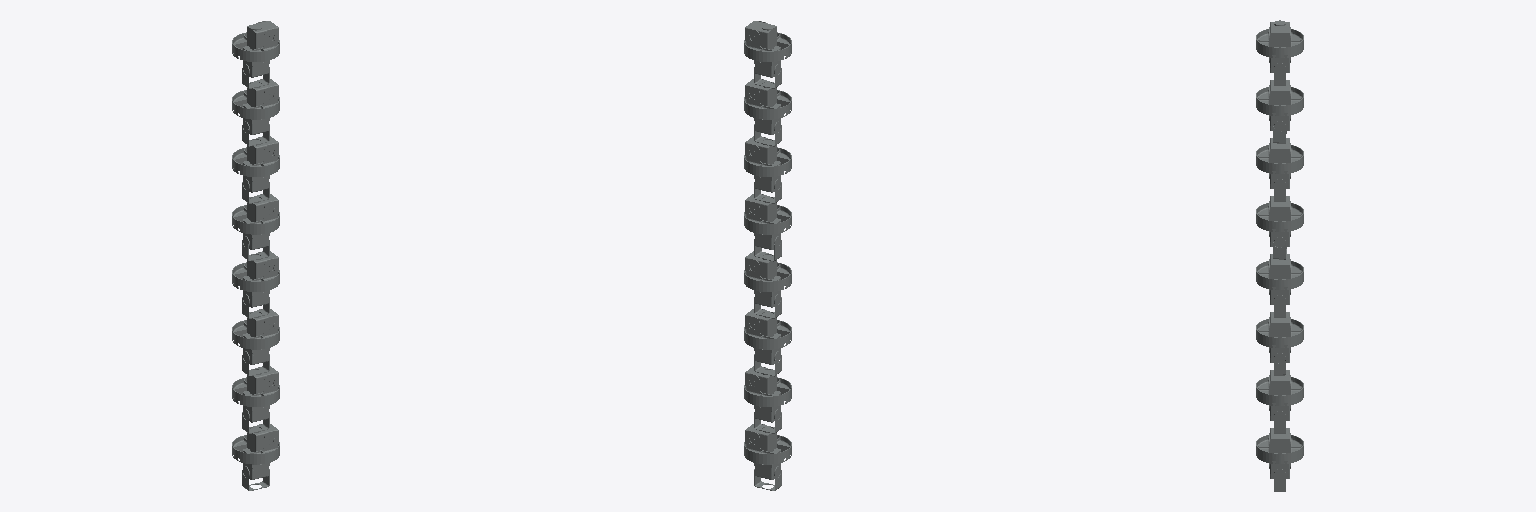
The robot description file, URDF, robot "snake_description":
<?xml version="1.0" encoding="utf-8"?>
<robot
  name="snake_description" xmlns:xacro = "http://www.ros.org/wiki/xacro">
  <link
    name="base">
    <inertial>
      <origin
        xyz="-1.3878E-16 8.3267E-17 0.009179"
        rpy="0 0 0" />
      <mass
        value="0.01292" />
      <inertia
        ixx="1.5771E-06"
        ixy="-6.8557E-21"
        ixz="8.2189E-21"
        iyy="5.4038E-06"
        iyz="-6.3527E-22"
        izz="5.0192E-06" />
    </inertial>
    <visual>
      <origin
        xyz="0 0 0"
        rpy="0 0 0" />
      <geometry>
        <mesh
          filename="package://snake_description/meshes/base.STL" />
      </geometry>
      <material
        name="">
        <color
          rgba="0.52941 0.54902 0.54902 1" />
      </material>
    </visual>
    <collision>
      <origin
        xyz="0 0 0"
        rpy="0 0 0" />
      <geometry>
        <mesh
          filename="package://snake_description/meshes/base.STL" />
      </geometry>
    </collision>
  </link>
  <link
    name="link1">
    <inertial>
      <origin
        xyz="0.034964 -3.7741E-10 -0.0062826"
        rpy="0 0 0" />
      <mass
        value="0.91551" />
      <inertia
        ixx="0.00022574"
        ixy="-5.9413E-11"
        ixz="1.1175E-06"
        iyy="0.00027191"
        iyz="-6.4981E-11"
        izz="0.00021815" />
    </inertial>
    <visual>
      <origin
        xyz="0 0 0"
        rpy="0 0 0" />
      <geometry>
        <mesh
          filename="package://snake_description/meshes/link1.STL" />
      </geometry>
      <material
        name="">
        <color
          rgba="0.52941 0.54902 0.54902 1" />
      </material>
    </visual>
    <collision>
      <origin
        xyz="0 0 0"
        rpy="0 0 0" />
      <geometry>
        <mesh
          filename="package://snake_description/meshes/link1.STL" />
      </geometry>
    </collision>
  </link>
  <joint
    name="joint1"
    type="revolute">
    <origin
      xyz="0 0 0.033"
      rpy="0 -1.5708 0" />
    <parent
      link="base" />
    <child
      link="link1" />
    <axis
      xyz="0 0 1" />
    <limit
      lower="-3.14"
      upper="3.14"
      effort="1.47"
      velocity="3.14" />
  </joint>
  <link
    name="link2">
    <inertial>
      <origin
        xyz="-5.55111512312578E-17 -8.32667268468867E-17 0.00917897857807373"
        rpy="0 0 0" />
      <mass
        value="0.0129204587087898" />
      <inertia
        ixx="1.57709823969322E-06"
        ixy="1.75626987657259E-20"
        ixz="-5.9557004103818E-22"
        iyy="5.40379392938283E-06"
        iyz="0"
        izz="5.01923981807972E-06" />
    </inertial>
    <visual>
      <origin
        xyz="0 0 0"
        rpy="0 0 0" />
      <geometry>
        <mesh
          filename="package://snake_description/meshes/link2.STL" />
      </geometry>
      <material
        name="">
        <color
          rgba="0.529411764705882 0.549019607843137 0.549019607843137 1" />
      </material>
    </visual>
    <collision>
      <origin
        xyz="0 0 0"
        rpy="0 0 0" />
      <geometry>
        <mesh
          filename="package://snake_description/meshes/link2.STL" />
      </geometry>
    </collision>
  </link>
  <joint
    name="joint2"
    type="revolute">
    <origin
      xyz="0.077 0 0"
      rpy="0 1.5708 0" />
    <parent
      link="link1" />
    <child
      link="link2" />
    <axis
      xyz="0 0 1" />
    <limit
      lower="-3.14"
      upper="3.14"
      effort="1.47"
      velocity="3.14" />
  </joint>
  <link
    name="link3">
    <inertial>
      <origin
        xyz="0.034964 -3.7741E-10 -0.0062826"
        rpy="0 0 0" />
      <mass
        value="0.91551" />
      <inertia
        ixx="0.00022574"
        ixy="-5.9413E-11"
        ixz="1.1175E-06"
        iyy="0.00027191"
        iyz="-6.4981E-11"
        izz="0.00021815" />
    </inertial>
    <visual>
      <origin
        xyz="0 0 0"
        rpy="0 0 0" />
      <geometry>
        <mesh
          filename="package://snake_description/meshes/link3.STL" />
      </geometry>
      <material
        name="">
        <color
          rgba="0.52941 0.54902 0.54902 1" />
      </material>
    </visual>
    <collision>
      <origin
        xyz="0 0 0"
        rpy="0 0 0" />
      <geometry>
        <mesh
          filename="package://snake_description/meshes/link3.STL" />
      </geometry>
    </collision>
  </link>
  <joint
    name="joint3"
    type="revolute">
    <origin
      xyz="0 0 0.033"
      rpy="0 -1.5708 0" />
    <parent
      link="link2" />
    <child
      link="link3" />
    <axis
      xyz="0 0 1" />
    <limit
      lower="-3.14"
      upper="3.14"
      effort="1.47"
      velocity="3.14" />
  </joint>
  <link
    name="link4">
    <inertial>
      <origin
        xyz="-2.77555756156289E-17 0 0.0091789785780737"
        rpy="0 0 0" />
      <mass
        value="0.0129204587087899" />
      <inertia
        ixx="1.57731930347784E-06"
        ixy="-2.90842734567011E-08"
        ixz="1.29701920048315E-21"
        iyy="5.40357286559824E-06"
        iyz="1.6940658945086E-21"
        izz="5.01923981807975E-06" />
    </inertial>
    <visual>
      <origin
        xyz="0 0 0"
        rpy="0 0 0" />
      <geometry>
        <mesh
          filename="package://snake_description/meshes/link4.STL" />
      </geometry>
      <material
        name="">
        <color
          rgba="0.529411764705882 0.549019607843137 0.549019607843137 1" />
      </material>
    </visual>
    <collision>
      <origin
        xyz="0 0 0"
        rpy="0 0 0" />
      <geometry>
        <mesh
          filename="package://snake_description/meshes/link4.STL" />
      </geometry>
    </collision>
  </link>
  <joint
    name="joint4"
    type="revolute">
    <origin
      xyz="0.077 0 0"
      rpy="0 1.5708 0" />
    <parent
      link="link3" />
    <child
      link="link4" />
    <axis
      xyz="0 0 1" />
    <limit
      lower="-3.14"
      upper="3.14"
      effort="1.47"
      velocity="3.14" />
  </joint>
  <link
    name="link5">
    <inertial>
      <origin
        xyz="0.034964 -4.3647E-10 -0.0062826"
        rpy="0 0 0" />
      <mass
        value="0.91551" />
      <inertia
        ixx="0.00022574"
        ixy="-5.9452E-11"
        ixz="1.1175E-06"
        iyy="0.00027191"
        iyz="-6.5064E-11"
        izz="0.00021815" />
    </inertial>
    <visual>
      <origin
        xyz="0 0 0"
        rpy="0 0 0" />
      <geometry>
        <mesh
          filename="package://snake_description/meshes/link5.STL" />
      </geometry>
      <material
        name="">
        <color
          rgba="0.52941 0.54902 0.54902 1" />
      </material>
    </visual>
    <collision>
      <origin
        xyz="0 0 0"
        rpy="0 0 0" />
      <geometry>
        <mesh
          filename="package://snake_description/meshes/link5.STL" />
      </geometry>
    </collision>
  </link>
  <joint
    name="joint5"
    type="revolute">
    <origin
      xyz="0 0 0.033"
      rpy="0 -1.5708 0" />
    <parent
      link="link4" />
    <child
      link="link5" />
    <axis
      xyz="0 0 1" />
    <limit
      lower="-3.14"
      upper="3.14"
      effort="1.47"
      velocity="3.14" />
  </joint>
  <link
    name="link6">
    <inertial>
      <origin
        xyz="-5.5511E-17 -2.7756E-17 0.009179"
        rpy="0 0 0" />
      <mass
        value="0.01292" />
      <inertia
        ixx="1.5771E-06"
        ixy="3.2028E-21"
        ixz="1.6676E-21"
        iyy="5.4038E-06"
        iyz="1.4823E-21"
        izz="5.0192E-06" />
    </inertial>
    <visual>
      <origin
        xyz="0 0 0"
        rpy="0 0 0" />
      <geometry>
        <mesh
          filename="package://snake_description/meshes/link6.STL" />
      </geometry>
      <material
        name="">
        <color
          rgba="0.52941 0.54902 0.54902 1" />
      </material>
    </visual>
    <collision>
      <origin
        xyz="0 0 0"
        rpy="0 0 0" />
      <geometry>
        <mesh
          filename="package://snake_description/meshes/link6.STL" />
      </geometry>
    </collision>
  </link>
  <joint
    name="joint6"
    type="revolute">
    <origin
      xyz="0.077 0 0"
      rpy="0 1.5708 0" />
    <parent
      link="link5" />
    <child
      link="link6" />
    <axis
      xyz="0 0 1" />
    <limit
      lower="-3.14"
      upper="3.14"
      effort="1.47"
      velocity="3.14" />
  </joint>
  <link
    name="link7">
    <inertial>
      <origin
        xyz="0.034964133386997 -4.36465225073235E-10 -0.00628263101716442"
        rpy="0 0 0" />
      <mass
        value="0.915512546944364" />
      <inertia
        ixx="0.000225736137666155"
        ixy="-5.94522618594805E-11"
        ixz="1.11752596558144E-06"
        iyy="0.000271905345960567"
        iyz="-6.50643421501858E-11"
        izz="0.000218146168922937" />
    </inertial>
    <visual>
      <origin
        xyz="0 0 0"
        rpy="0 0 0" />
      <geometry>
        <mesh
          filename="package://snake_description/meshes/link7.STL" />
      </geometry>
      <material
        name="">
        <color
          rgba="0.529411764705882 0.549019607843137 0.549019607843137 1" />
      </material>
    </visual>
    <collision>
      <origin
        xyz="0 0 0"
        rpy="0 0 0" />
      <geometry>
        <mesh
          filename="package://snake_description/meshes/link7.STL" />
      </geometry>
    </collision>
  </link>
  <joint
    name="joint7"
    type="revolute">
    <origin
      xyz="0 0 0.033"
      rpy="0 -1.5708 0" />
    <parent
      link="link6" />
    <child
      link="link7" />
    <axis
      xyz="0 0 1" />
    <limit
      lower="-3.14"
      upper="3.14"
      effort="1.47"
      velocity="3.14" />
  </joint>
  <link
    name="link8">
    <inertial>
      <origin
        xyz="0 5.55111512312578E-17 0.00917897857807372"
        rpy="0 0 0" />
      <mass
        value="0.0129204587087899" />
      <inertia
        ixx="1.58808465043181E-06"
        ixy="2.0474606076195E-07"
        ixz="-3.20284333180532E-21"
        iyy="5.39280751864428E-06"
        iyz="-1.27054942088145E-21"
        izz="5.01923981807974E-06" />
    </inertial>
    <visual>
      <origin
        xyz="0 0 0"
        rpy="0 0 0" />
      <geometry>
        <mesh
          filename="package://snake_description/meshes/link8.STL" />
      </geometry>
      <material
        name="">
        <color
          rgba="0.529411764705882 0.549019607843137 0.549019607843137 1" />
      </material>
    </visual>
    <collision>
      <origin
        xyz="0 0 0"
        rpy="0 0 0" />
      <geometry>
        <mesh
          filename="package://snake_description/meshes/link8.STL" />
      </geometry>
    </collision>
  </link>
  <joint
    name="joint8"
    type="revolute">
    <origin
      xyz="0.077 0 0"
      rpy="0 1.5708 0" />
    <parent
      link="link7" />
    <child
      link="link8" />
    <axis
      xyz="0 0 1" />
    <limit
      lower="-3.14"
      upper="3.14"
      effort="1.47"
      velocity="3.14" />
  </joint>
  <link
    name="link9">
    <inertial>
      <origin
        xyz="0.034964 -2.6497E-10 -0.0062826"
        rpy="0 0 0" />
      <mass
        value="0.91551" />
      <inertia
        ixx="0.00022574"
        ixy="-5.8772E-11"
        ixz="1.1175E-06"
        iyy="0.00027191"
        iyz="-6.5107E-11"
        izz="0.00021815" />
    </inertial>
    <visual>
      <origin
        xyz="0 0 0"
        rpy="0 0 0" />
      <geometry>
        <mesh
          filename="package://snake_description/meshes/link9.STL" />
      </geometry>
      <material
        name="">
        <color
          rgba="0.52941 0.54902 0.54902 1" />
      </material>
    </visual>
    <collision>
      <origin
        xyz="0 0 0"
        rpy="0 0 0" />
      <geometry>
        <mesh
          filename="package://snake_description/meshes/link9.STL" />
      </geometry>
    </collision>
  </link>
  <joint
    name="joint9"
    type="revolute">
    <origin
      xyz="0 0 0.033"
      rpy="0 -1.5708 0" />
    <parent
      link="link8" />
    <child
      link="link9" />
    <axis
      xyz="0 0 1" />
    <limit
      lower="-3.14"
      upper="3.14"
      effort="1.47"
      velocity="3.14" />
  </joint>
  <link
    name="link10">
    <inertial>
      <origin
        xyz="-8.32667268468867E-17 0 0.00917897857807382"
        rpy="0 0 0" />
      <mass
        value="0.0129204587087899" />
      <inertia
        ixx="1.57709823969324E-06"
        ixy="1.31554804620434E-20"
        ixz="8.00710832951331E-21"
        iyy="5.40379392938287E-06"
        iyz="4.44692297308508E-21"
        izz="5.01923981807975E-06" />
    </inertial>
    <visual>
      <origin
        xyz="0 0 0"
        rpy="0 0 0" />
      <geometry>
        <mesh
          filename="package://snake_description/meshes/link10.STL" />
      </geometry>
      <material
        name="">
        <color
          rgba="0.529411764705882 0.549019607843137 0.549019607843137 1" />
      </material>
    </visual>
    <collision>
      <origin
        xyz="0 0 0"
        rpy="0 0 0" />
      <geometry>
        <mesh
          filename="package://snake_description/meshes/link10.STL" />
      </geometry>
    </collision>
  </link>
  <joint
    name="joint10"
    type="revolute">
    <origin
      xyz="0.077 0 0"
      rpy="0 1.5708 0" />
    <parent
      link="link9" />
    <child
      link="link10" />
    <axis
      xyz="0 0 1" />
    <limit
      lower="-3.14"
      upper="3.14"
      effort="1.47"
      velocity="3.14" />
  </joint>
  <link
    name="link11">
    <inertial>
      <origin
        xyz="0.0349641334051368 -2.64973515351485E-10 -0.00628263104727339"
        rpy="0 0 0" />
      <mass
        value="0.915512545360293" />
      <inertia
        ixx="0.000225736138365725"
        ixy="-5.87717160298296E-11"
        ixz="1.11752595966432E-06"
        iyy="0.00027190534636801"
        iyz="-6.51068454240693E-11"
        izz="0.000218146168795028" />
    </inertial>
    <visual>
      <origin
        xyz="0 0 0"
        rpy="0 0 0" />
      <geometry>
        <mesh
          filename="package://snake_description/meshes/joint11.STL" />
      </geometry>
      <material
        name="">
        <color
          rgba="0.529411764705882 0.549019607843137 0.549019607843137 1" />
      </material>
    </visual>
    <collision>
      <origin
        xyz="0 0 0"
        rpy="0 0 0" />
      <geometry>
        <mesh
          filename="package://snake_description/meshes/joint11.STL" />
      </geometry>
    </collision>
  </link>
  <joint
    name="joint11"
    type="revolute">
    <origin
      xyz="0 0 0.033"
      rpy="0 -1.5708 0" />
    <parent
      link="link10" />
    <child
      link="link11" />
    <axis
      xyz="0 0 1" />
    <limit
      lower="-3.14"
      upper="3.14"
      effort="1.47"
      velocity="3.14" />
  </joint>
  <link
    name="link12">
    <inertial>
      <origin
        xyz="2.7756E-17 -5.5511E-17 0.009179"
        rpy="0 0 0" />
      <mass
        value="0.01292" />
      <inertia
        ixx="1.5774E-06"
        ixy="3.3027E-08"
        ixz="-1.2083E-20"
        iyy="5.4035E-06"
        iyz="-3.3881E-21"
        izz="5.0192E-06" />
    </inertial>
    <visual>
      <origin
        xyz="0 0 0"
        rpy="0 0 0" />
      <geometry>
        <mesh
          filename="package://snake_description/meshes/link12.STL" />
      </geometry>
      <material
        name="">
        <color
          rgba="0.52941 0.54902 0.54902 1" />
      </material>
    </visual>
    <collision>
      <origin
        xyz="0 0 0"
        rpy="0 0 0" />
      <geometry>
        <mesh
          filename="package://snake_description/meshes/link12.STL" />
      </geometry>
    </collision>
  </link>
  <joint
    name="joint12"
    type="revolute">
    <origin
      xyz="0.077 0 0"
      rpy="0 1.5708 0" />
    <parent
      link="link11" />
    <child
      link="link12" />
    <axis
      xyz="0 0 1" />
    <limit
      lower="-3.14"
      upper="3.14"
      effort="1.47"
      velocity="3.14" />
  </joint>
  <link
    name="link13">
    <inertial>
      <origin
        xyz="0.0349641334028094 -2.51486276248158E-10 -0.00628263106809179"
        rpy="0 0 0" />
      <mass
        value="0.915512545983404" />
      <inertia
        ixx="0.000225736138678666"
        ixy="-5.877492706397E-11"
        ixz="1.11752589672728E-06"
        iyy="0.000271905346700683"
        iyz="-6.51141376569202E-11"
        izz="0.000218146168967147" />
    </inertial>
    <visual>
      <origin
        xyz="0 0 0"
        rpy="0 0 0" />
      <geometry>
        <mesh
          filename="package://snake_description/meshes/link13.STL" />
      </geometry>
      <material
        name="">
        <color
          rgba="0.529411764705882 0.549019607843137 0.549019607843137 1" />
      </material>
    </visual>
    <collision>
      <origin
        xyz="0 0 0"
        rpy="0 0 0" />
      <geometry>
        <mesh
          filename="package://snake_description/meshes/link13.STL" />
      </geometry>
    </collision>
  </link>
  <joint
    name="joint13"
    type="revolute">
    <origin
      xyz="0 0 0.033"
      rpy="0 -1.5708 0" />
    <parent
      link="link12" />
    <child
      link="link13" />
    <axis
      xyz="0 0 1" />
    <limit
      lower="-3.14"
      upper="3.14"
      effort="1.47"
      velocity="3.14" />
  </joint>
  <link
    name="link14">
    <inertial>
      <origin
        xyz="0 -8.32667268468867E-17 0.00917897857807376"
        rpy="0 0 0" />
      <mass
        value="0.0129204587087901" />
      <inertia
        ixx="1.57709823969323E-06"
        ixy="7.33874639457046E-21"
        ixz="-5.42630481834786E-21"
        iyy="5.40379392938289E-06"
        iyz="-4.87043944671223E-21"
        izz="5.01923981807978E-06" />
    </inertial>
    <visual>
      <origin
        xyz="0 0 0"
        rpy="0 0 0" />
      <geometry>
        <mesh
          filename="package://snake_description/meshes/link14.STL" />
      </geometry>
      <material
        name="">
        <color
          rgba="0.529411764705882 0.549019607843137 0.549019607843137 1" />
      </material>
    </visual>
    <collision>
      <origin
        xyz="0 0 0"
        rpy="0 0 0" />
      <geometry>
        <mesh
          filename="package://snake_description/meshes/link14.STL" />
      </geometry>
    </collision>
  </link>
  <joint
    name="joint14"
    type="revolute">
    <origin
      xyz="0.077 0 0"
      rpy="0 1.5708 0" />
    <parent
      link="link13" />
    <child
      link="link14" />
    <axis
      xyz="0 0 1" />
    <limit
      lower="-3.14"
      upper="3.14"
      effort="1.47"
      velocity="3.14" />
  </joint>
  <link
    name="link15">
    <inertial>
      <origin
        xyz="0.034964 -2.5149E-10 -0.0062826"
        rpy="0 0 0" />
      <mass
        value="0.91551" />
      <inertia
        ixx="0.00022574"
        ixy="-5.8775E-11"
        ixz="1.1175E-06"
        iyy="0.00027191"
        iyz="-6.5114E-11"
        izz="0.00021815" />
    </inertial>
    <visual>
      <origin
        xyz="0 0 0"
        rpy="0 0 0" />
      <geometry>
        <mesh
          filename="package://snake_description/meshes/link15.STL" />
      </geometry>
      <material
        name="">
        <color
          rgba="0.52941 0.54902 0.54902 1" />
      </material>
    </visual>
    <collision>
      <origin
        xyz="0 0 0"
        rpy="0 0 0" />
      <geometry>
        <mesh
          filename="package://snake_description/meshes/link15.STL" />
      </geometry>
    </collision>
  </link>
  <joint
    name="joint15"
    type="revolute">
    <origin
      xyz="0 0 0.033"
      rpy="0 -1.5708 0" />
    <parent
      link="link14" />
    <child
      link="link15" />
    <axis
      xyz="0 0 1" />
    <limit
      lower="-3.14"
      upper="3.14"
      effort="1.47"
      velocity="3.14" />
  </joint>
</robot>

--- Facts derived from the render (not from the file) ---
3 views of the same robot in one strip: view 1: azimuth 30°, elevation 25°; view 2: azimuth 150°, elevation 25°; view 3: azimuth 270°, elevation 25° (orthographic).
Robot: snake_description — 16 links, 15 joints (15 revolute); root link base; default pose: all joints at 0.
Visible links, largest first — view 1: link15, link7, link3, link11, link13, link5, link9, link1; view 2: link15, link13, link3, link7, link1, link5, link9, link11; view 3: link15, link1, link3, link5, link7, link11, link13, link9.
Link boxes in pixels (x1=…): link15: x1=232, y1=21, x2=279, y2=77; link7: x1=232, y1=251, x2=279, y2=307; link3: x1=232, y1=366, x2=279, y2=422; link11: x1=232, y1=136, x2=279, y2=192; link13: x1=232, y1=79, x2=279, y2=134; link5: x1=232, y1=309, x2=279, y2=364; link9: x1=232, y1=194, x2=279, y2=249; link1: x1=232, y1=424, x2=279, y2=479; link15: x1=744, y1=21, x2=791, y2=77; link13: x1=744, y1=79, x2=791, y2=134; link3: x1=744, y1=366, x2=791, y2=422; link7: x1=744, y1=251, x2=791, y2=307; link1: x1=744, y1=424, x2=791, y2=479; link5: x1=744, y1=309, x2=791, y2=364; link9: x1=744, y1=194, x2=791, y2=249; link11: x1=744, y1=136, x2=791, y2=192; link15: x1=1256, y1=20, x2=1303, y2=73; link1: x1=1256, y1=428, x2=1303, y2=479; link3: x1=1256, y1=370, x2=1303, y2=421; link5: x1=1256, y1=312, x2=1303, y2=363; link7: x1=1256, y1=254, x2=1303, y2=305; link11: x1=1256, y1=138, x2=1303, y2=189; link13: x1=1256, y1=80, x2=1303, y2=131; link9: x1=1256, y1=196, x2=1303, y2=247.
Size in the robot's own frame: 0.083 by 0.083 by 0.88 metres.
Meshes: 16 distinct files referenced, 16 mesh visuals loaded (16 binary STL).